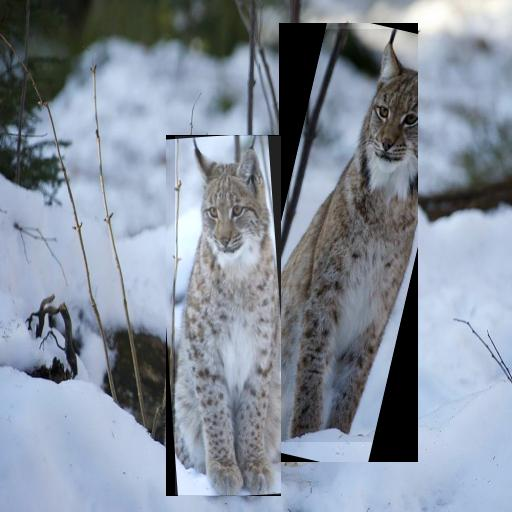lynx: (279, 29, 418, 442), (175, 137, 281, 495)
